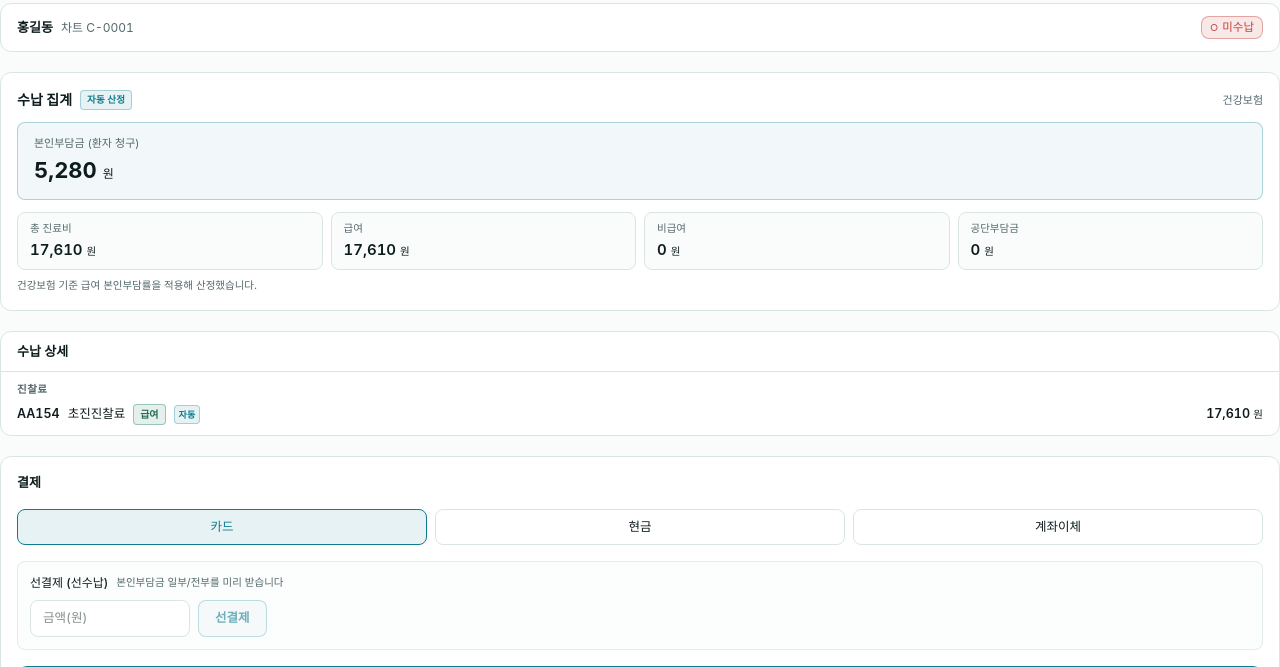
Test: BillingDetail › 결제수단 토글 + 신원 재진술 confirm → finalize 성공 시 완료 패널
// 결제수단 현금 선택.
Click the radio button labelled "현금" at (640, 527), box [435,508,845,545]
(page scrolled)
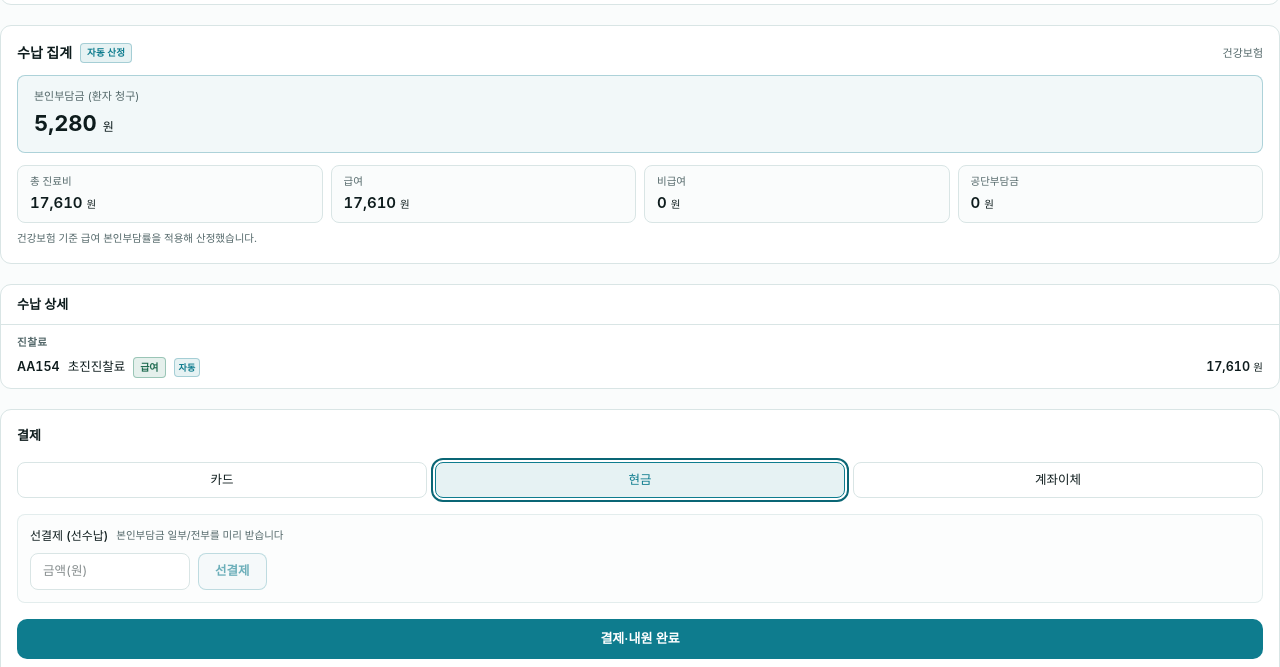
Click the button "결제·내원 완료" at (640, 639), box [17,619,1263,658]
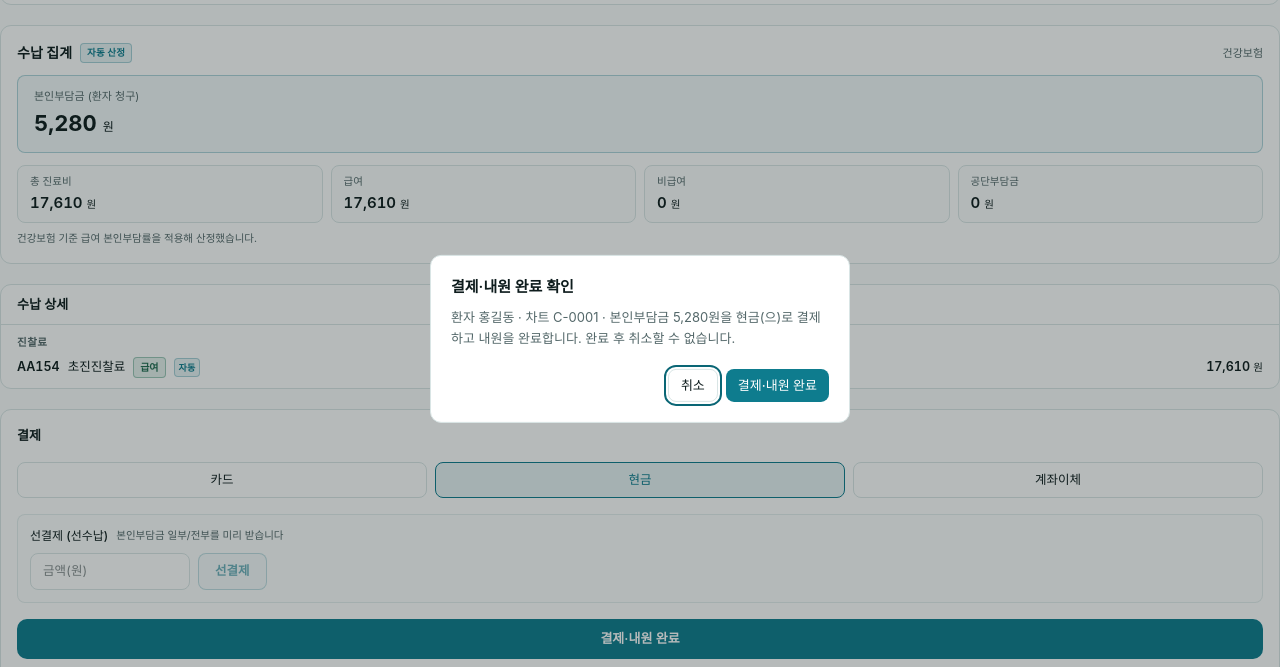
Now the text "C-0001" is shown, box [451,308,821,346]
Click the button "결제·내원 완료" at (777, 385), box [726,369,829,402]
(page scrolled)
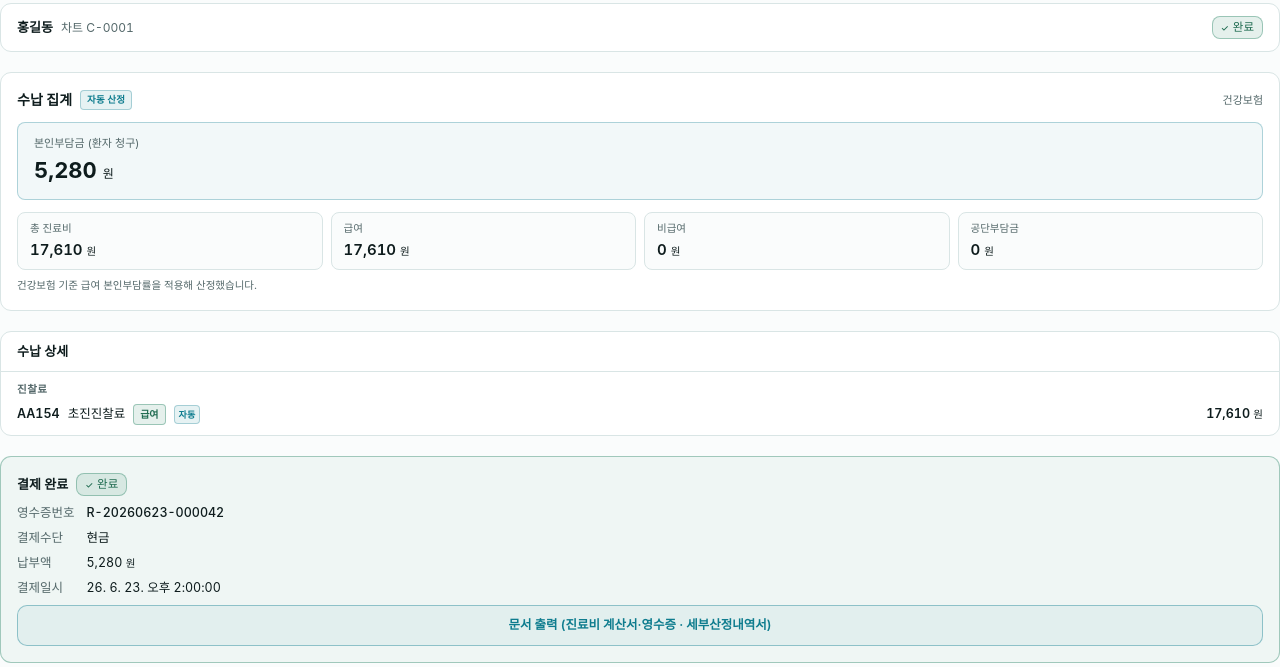
Now the heading "결제 완료" is shown, box [17,475,68,494]
Now the text "R-20260623-000042" is shown, box [86,505,224,520]
